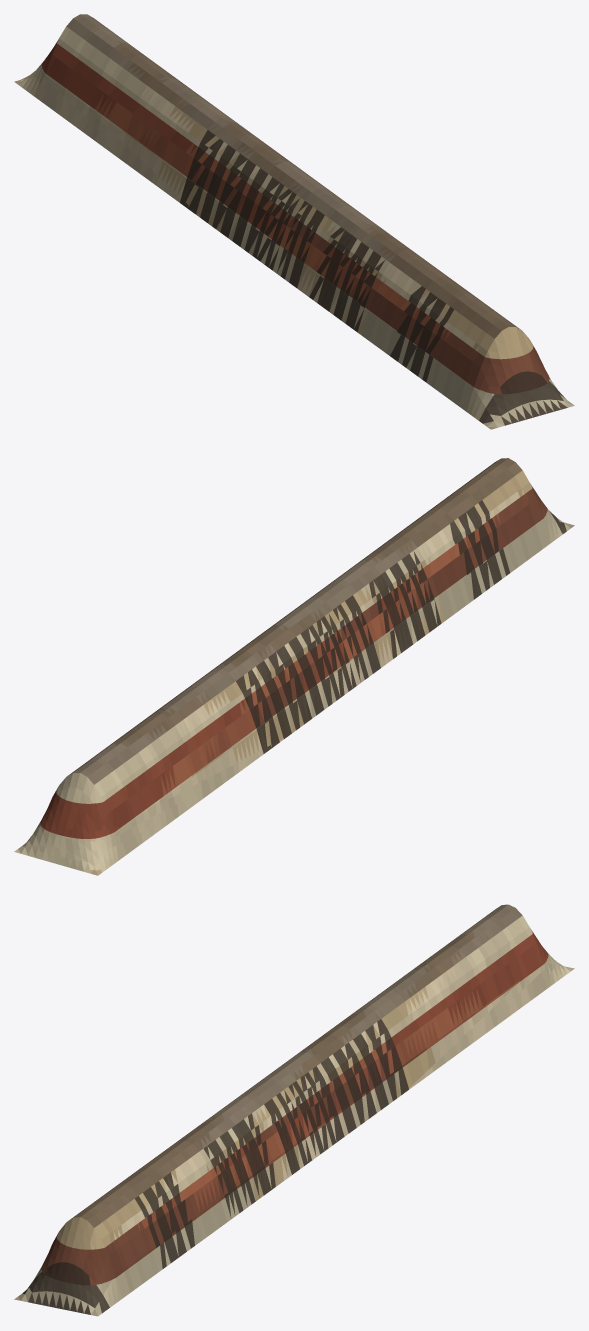
File: dam_eye_fin_east.glb
3 views of the same model, one above another, from view 1: azimuth 30°, elevation 25°; view 2: azimuth 150°, elevation 25°; view 3: azimuth 330°, elevation 25° (orthographic).
Visible parts, largest first — view 1: dam_eye_fin_east; view 2: dam_eye_fin_east; view 3: dam_eye_fin_east.
Boxes of the visible parts, x1=… form: dam_eye_fin_east: x1=14, y1=14, x2=574, y2=429; dam_eye_fin_east: x1=14, y1=458, x2=574, y2=875; dam_eye_fin_east: x1=14, y1=904, x2=574, y2=1316.
Size of the model in its own units: 24 by 20.76 by 236.
